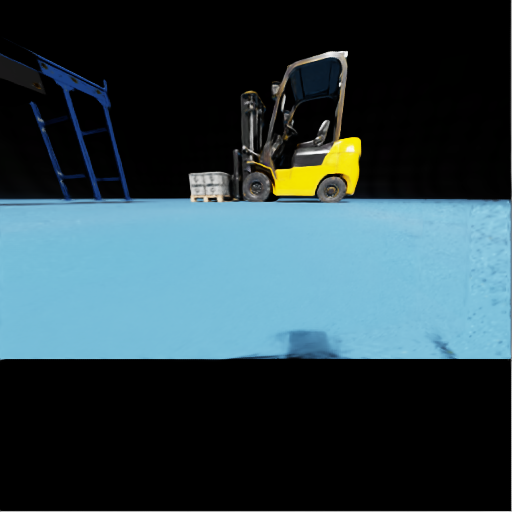transportation_area: (205, 184, 233, 194)
